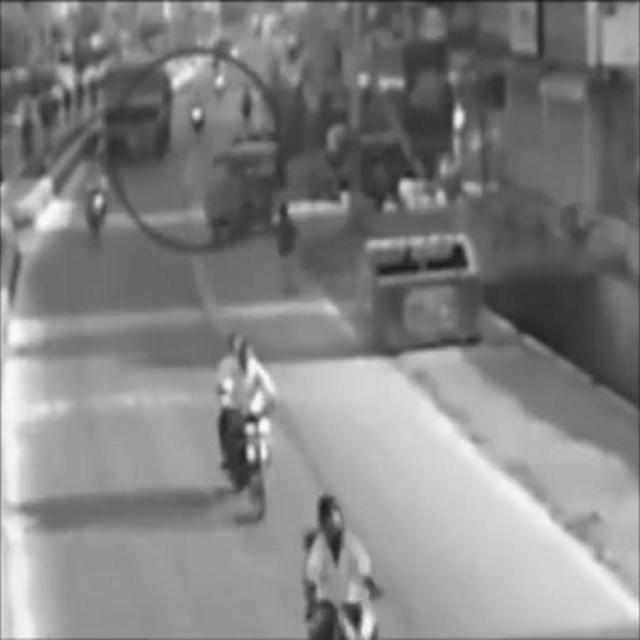person: (275, 197, 302, 293)
vehicle: (218, 330, 282, 516), (298, 495, 380, 639), (104, 69, 171, 160)
